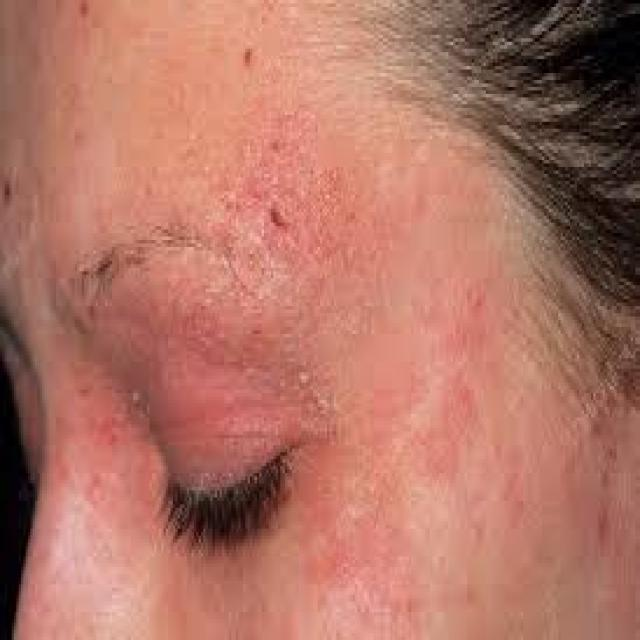Eczema: (215, 80, 380, 324)
